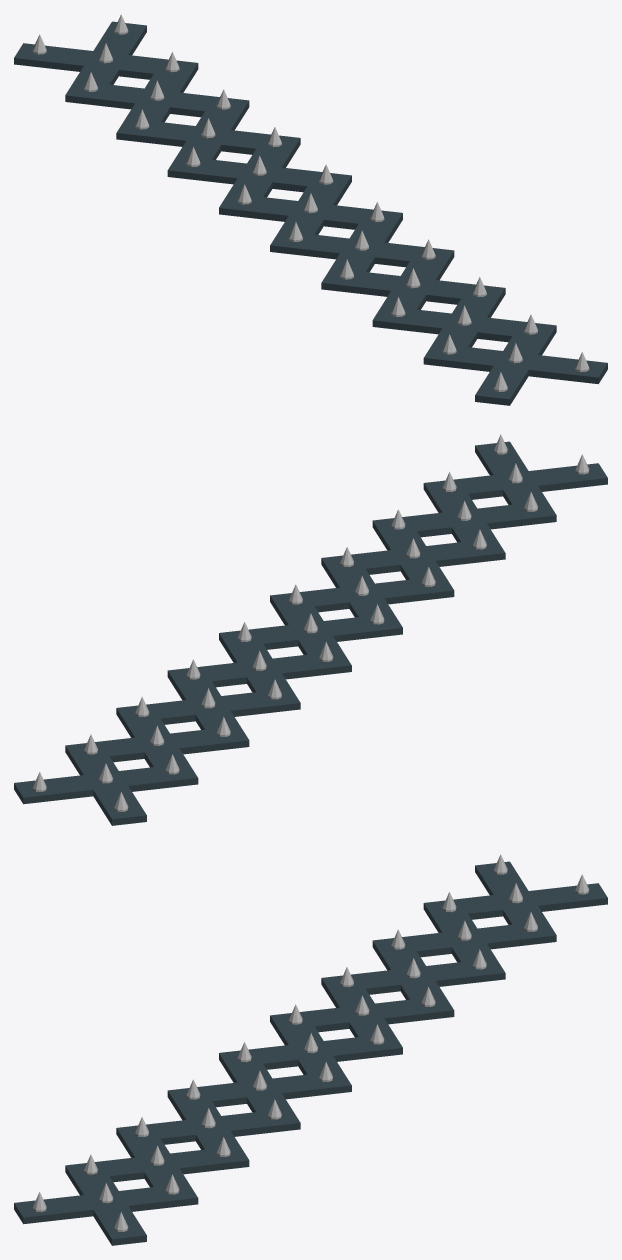
The model's file is Spiketrap.fbx.
3 views of the same model, one above another, from view 1: azimuth 30°, elevation 25°; view 2: azimuth 150°, elevation 25°; view 3: azimuth 330°, elevation 25° (orthographic).
Visible parts, largest first — view 1: SpikeTrap; view 2: SpikeTrap; view 3: SpikeTrap.
Part boxes in pixels (x1=…): SpikeTrap: x1=14, y1=14, x2=607, y2=405; SpikeTrap: x1=14, y1=434, x2=607, y2=825; SpikeTrap: x1=14, y1=854, x2=607, y2=1245.
Bounding box in the file's own units: 106 × 18.46 × 672.
